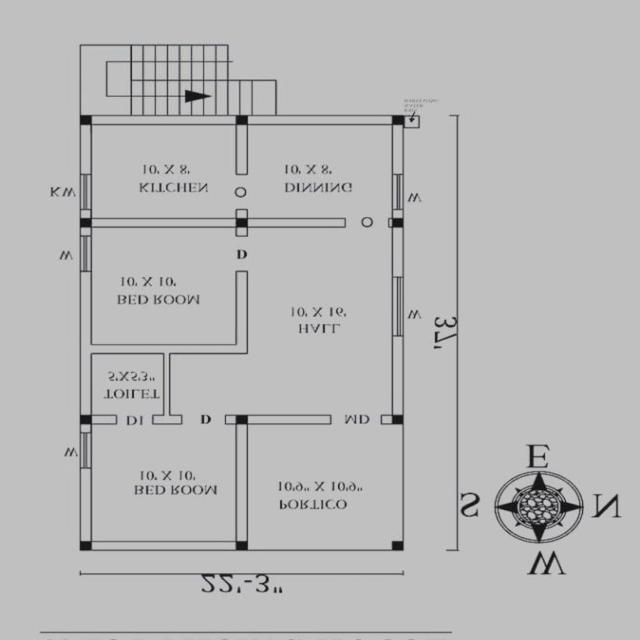Blueprint: (58, 100, 426, 564)
column: (233, 113, 252, 127), (232, 538, 250, 552), (77, 216, 95, 230), (78, 114, 96, 128), (78, 539, 94, 553), (390, 538, 406, 552), (78, 414, 96, 426), (389, 217, 406, 229), (390, 414, 406, 426), (234, 414, 250, 426), (234, 217, 250, 229), (391, 114, 406, 126)
wall: (77, 268, 251, 428), (90, 216, 239, 229), (245, 114, 394, 126), (90, 540, 238, 552), (90, 114, 238, 126), (234, 422, 248, 544), (76, 466, 95, 544), (245, 216, 348, 228), (391, 334, 405, 417), (245, 414, 334, 425), (77, 124, 93, 176), (390, 226, 405, 280), (390, 122, 404, 176), (234, 123, 248, 177), (90, 414, 118, 426), (233, 225, 250, 238), (78, 423, 94, 435), (378, 414, 394, 426), (78, 226, 94, 238), (392, 208, 406, 220), (78, 208, 92, 220), (236, 208, 250, 220)
